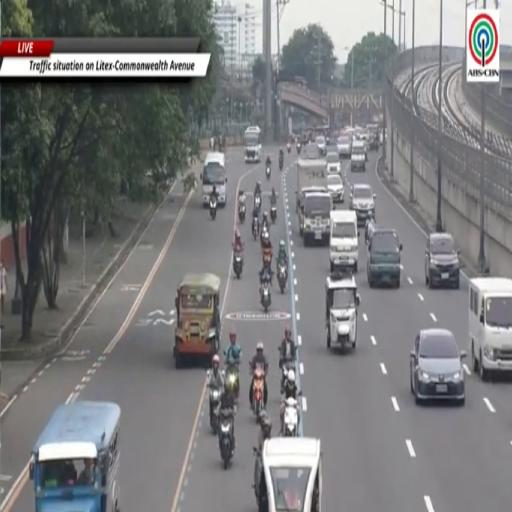bus: (30, 402, 121, 511), (201, 152, 227, 206), (244, 126, 262, 163)
car: (410, 329, 466, 405), (425, 233, 461, 289), (349, 184, 375, 227), (327, 174, 344, 202), (337, 135, 351, 158), (326, 152, 341, 173), (365, 218, 375, 245), (315, 136, 326, 155)
jeepney: (255, 438, 321, 511), (174, 274, 220, 367), (326, 270, 360, 348), (296, 158, 327, 212)
motorcycle: (219, 410, 233, 469), (253, 366, 265, 420), (283, 397, 298, 437), (253, 447, 263, 506), (225, 362, 239, 401), (210, 389, 221, 435), (281, 359, 294, 393), (260, 280, 271, 314), (277, 262, 287, 293), (233, 251, 243, 279), (262, 248, 272, 268), (260, 222, 267, 247), (252, 217, 259, 241), (254, 194, 262, 215), (210, 199, 217, 219), (239, 204, 245, 223), (270, 205, 276, 223), (266, 166, 270, 180), (279, 158, 283, 170), (297, 143, 301, 154), (287, 142, 290, 153)
truck: (297, 159, 332, 245), (296, 158, 327, 213)
